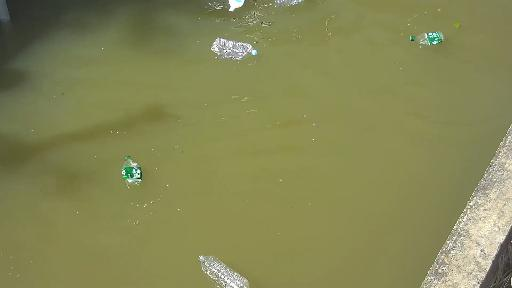leaf: (448, 18, 463, 34)
plastic: (187, 249, 263, 288), (207, 26, 266, 66), (115, 145, 149, 198), (402, 27, 451, 50), (270, 0, 318, 13), (217, 0, 247, 12)
